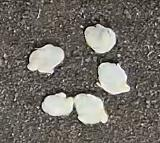chick: (25, 43, 65, 75), (96, 62, 130, 94), (73, 94, 108, 125), (83, 23, 117, 54), (40, 91, 74, 117)
